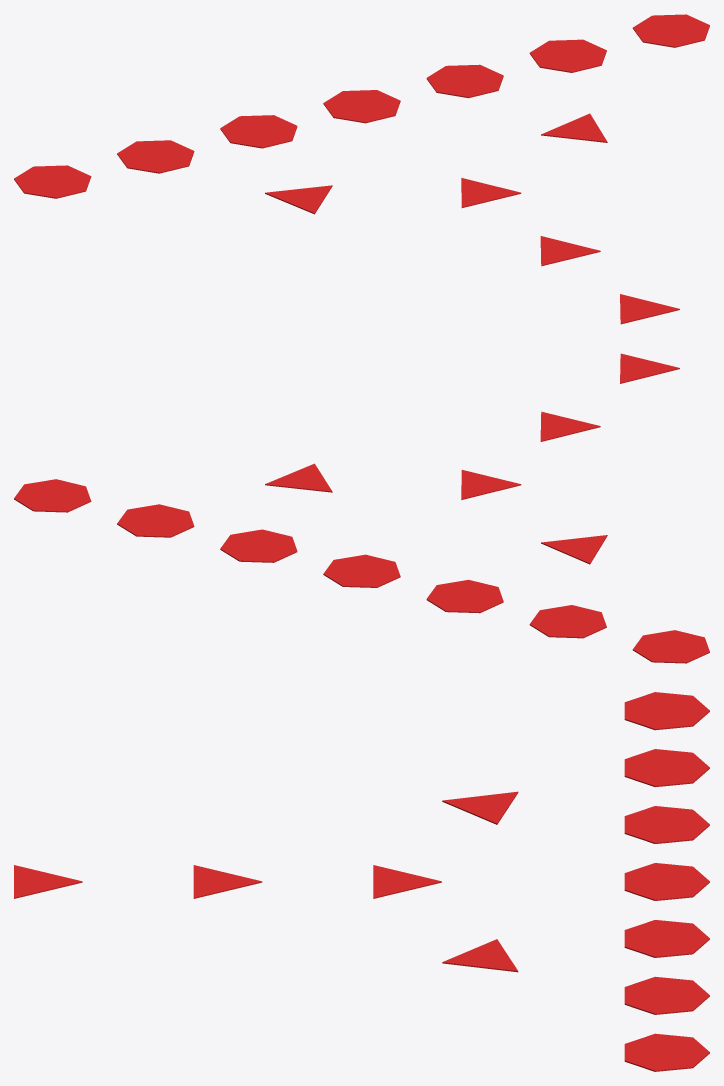
The model's file is StepsMenu.fbx.
3 renders of one model, top to bottom at view 1: azimuth 30°, elevation 25°; view 2: azimuth 150°, elevation 25°; view 3: azimuth 270°, elevation 25°, orthographic. The views are drawn at different scales.
Parts seen in each view (by area): view 1: step9, step11, step6, step10, step7, step8, step12, step3, step4, step5, step2, step1; view 2: step7, step9, step8, step12, step10, step11, step6, step3, step4, step5, step2, step1; view 3: step9, step6, step7, step11, step12, step8, step10, step2, step4, step5, step3, step1.
Boxes of the visible parts, left/top/right/bottom form: step9: left=323, top=90, right=400, bottom=123; step11: left=529, top=39, right=606, bottom=72; step6: left=14, top=165, right=91, bottom=198; step10: left=426, top=64, right=503, bottom=98; step7: left=117, top=140, right=194, bottom=173; step8: left=220, top=115, right=297, bottom=148; step12: left=632, top=14, right=709, bottom=47; step3: left=461, top=178, right=521, bottom=207; step4: left=265, top=185, right=332, bottom=214; step5: left=541, top=113, right=607, bottom=142; step2: left=540, top=236, right=600, bottom=266; step1: left=620, top=294, right=679, bottom=324; step7: left=529, top=605, right=606, bottom=638; step9: left=323, top=554, right=400, bottom=587; step8: left=426, top=579, right=503, bottom=613; step12: left=14, top=479, right=91, bottom=512; step10: left=220, top=529, right=297, bottom=562; step11: left=117, top=504, right=194, bottom=537; step6: left=632, top=630, right=709, bottom=663; step3: left=461, top=470, right=521, bottom=499; step4: left=541, top=535, right=607, bottom=564; step5: left=265, top=463, right=332, bottom=492; step2: left=540, top=411, right=600, bottom=441; step1: left=620, top=353, right=679, bottom=383; step9: left=624, top=863, right=709, bottom=900; step6: left=624, top=692, right=709, bottom=730; step7: left=624, top=749, right=709, bottom=787; step11: left=624, top=976, right=709, bottom=1014; step12: left=624, top=1033, right=709, bottom=1071; step8: left=624, top=806, right=709, bottom=843; step10: left=624, top=920, right=709, bottom=957; step2: left=193, top=865, right=262, bottom=898; step4: left=442, top=791, right=518, bottom=824; step5: left=442, top=939, right=518, bottom=972; step3: left=373, top=865, right=441, bottom=898; step1: left=14, top=865, right=82, bottom=898.
Bounding box in the file's own units: 1995 × 3 × 1550.
